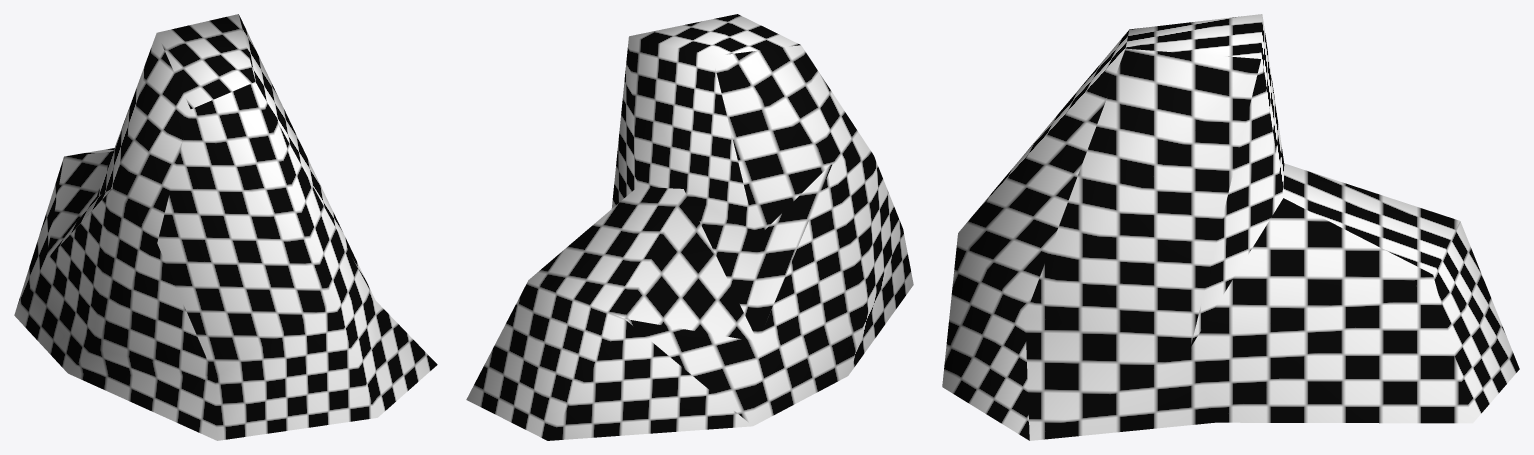
The model's file is nast19.dae.
The picture shows the model from 3 angles, left to right: view 1: azimuth 30°, elevation 25°; view 2: azimuth 150°, elevation 25°; view 3: azimuth 270°, elevation 25°; orthographic projection. The views are drawn at different scales.
Visible parts, largest first — view 1: stone03; view 2: stone03; view 3: stone03.
Part boxes in pixels (left/top/right/bottom): stone03: left=14, top=14, right=437, bottom=440; stone03: left=466, top=14, right=913, bottom=440; stone03: left=942, top=14, right=1519, bottom=440.
Bounding box in the file's own units: 0.7399 × 1.16 × 0.7366.
1 material, 1 textured.
